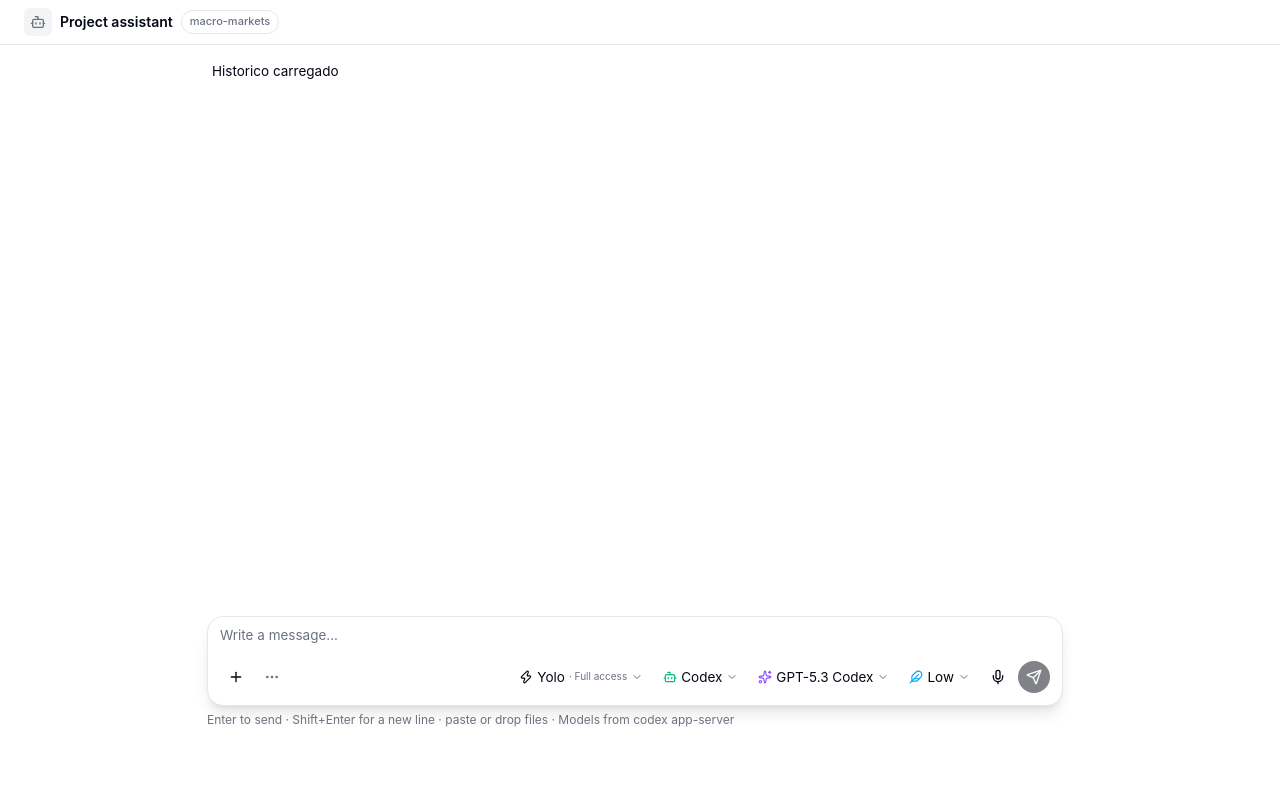
Scenario: ProjectAssistantPanel › renders a routed project assistant page, loads history, streams a response, and sends through the channel
Expected: the text "Historico carregado" is shown, [212,63,339,79]
In the text box with placeholder "Write a message...": (635, 639) [208,617,1062,661], type "Oi"
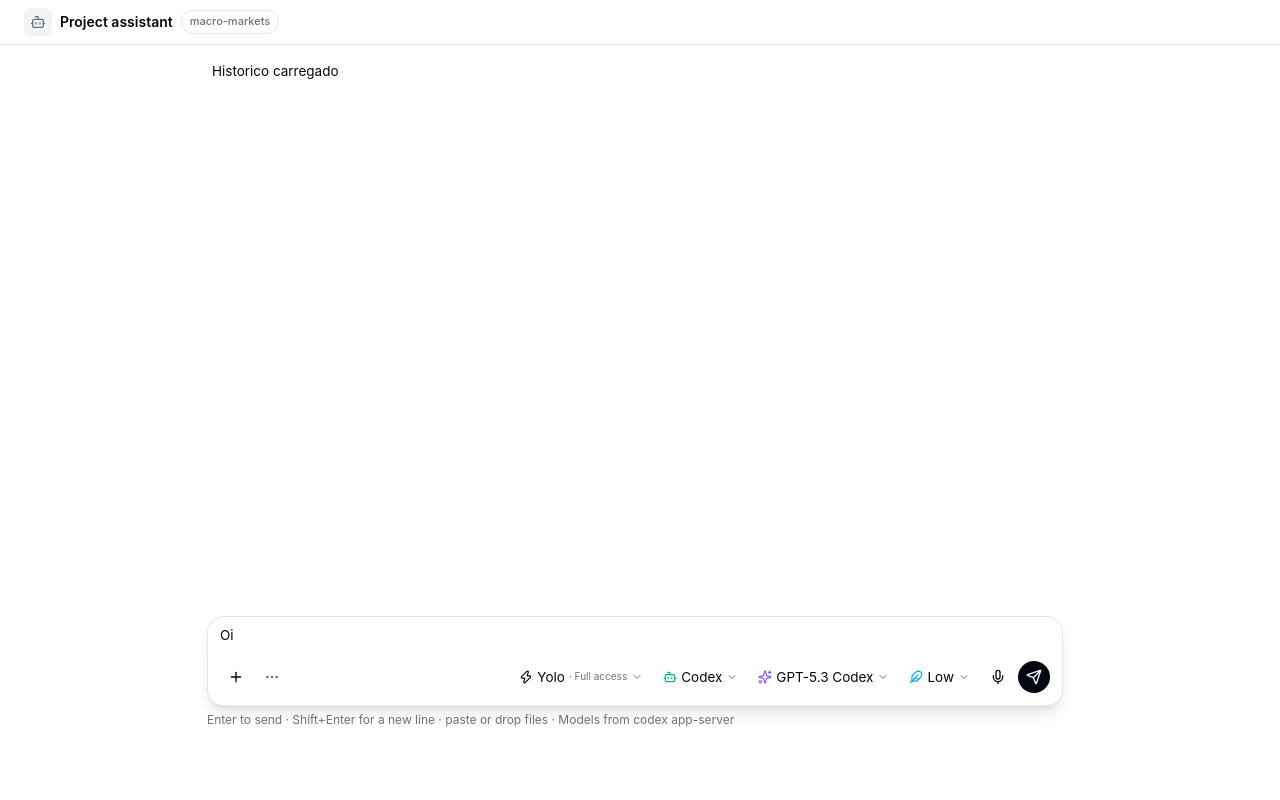
Press Enter in the text box with placeholder "Write a message...", box [208,617,1062,661]
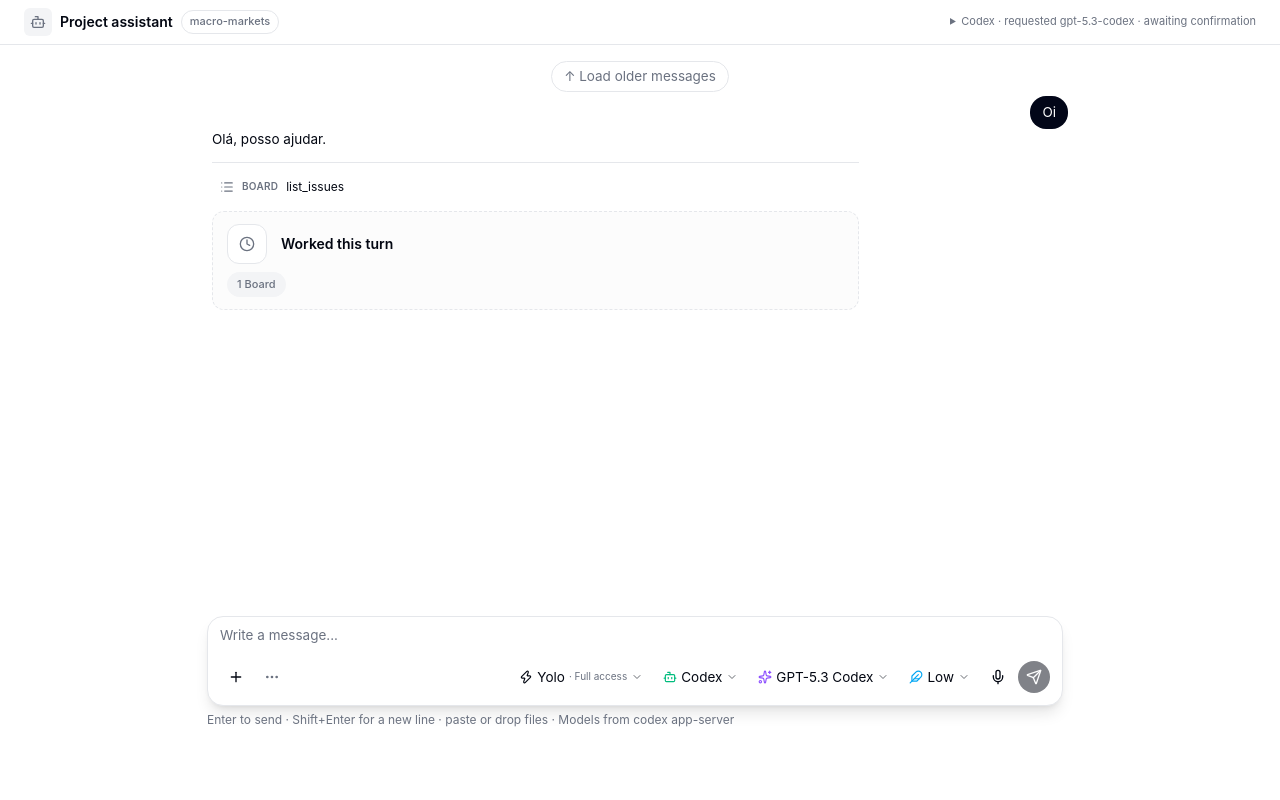
Result: the text "Oi" is shown at [1042,102,1056,123]
Result: the text "Olá, posso ajudar." is shown at [212,131,326,147]
